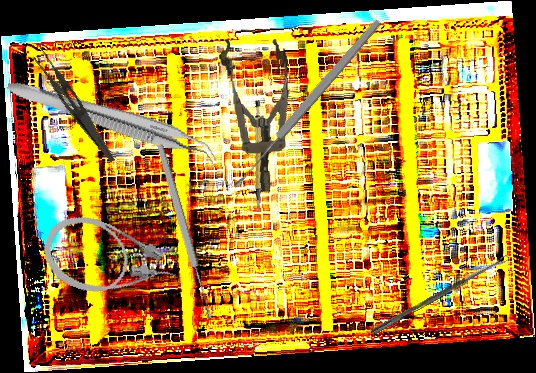Cannula: (34, 205, 185, 320)
Dressing Forceps: (23, 42, 128, 164)
Scalpel Handle: (238, 99, 276, 214)
Speculum: (217, 34, 299, 195)
Surgical Spoon: (229, 16, 385, 192), (370, 254, 510, 337), (155, 143, 215, 321)
Tissue Forceps: (2, 77, 222, 166)
